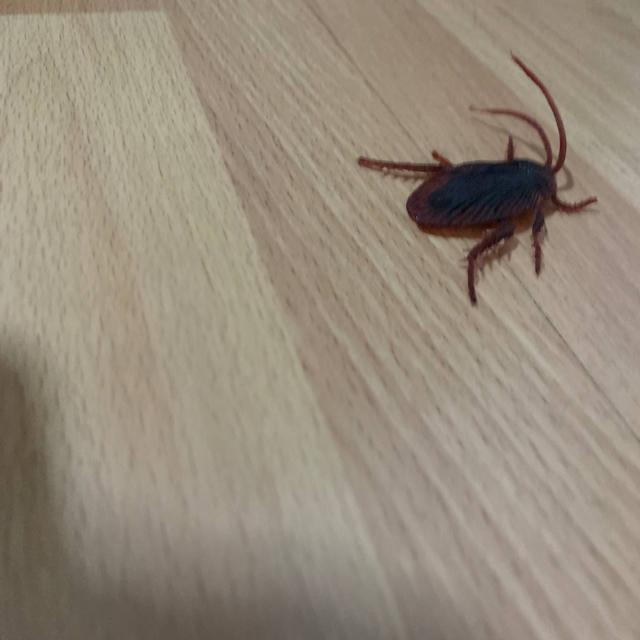Cockroach: (364, 52, 600, 294)
